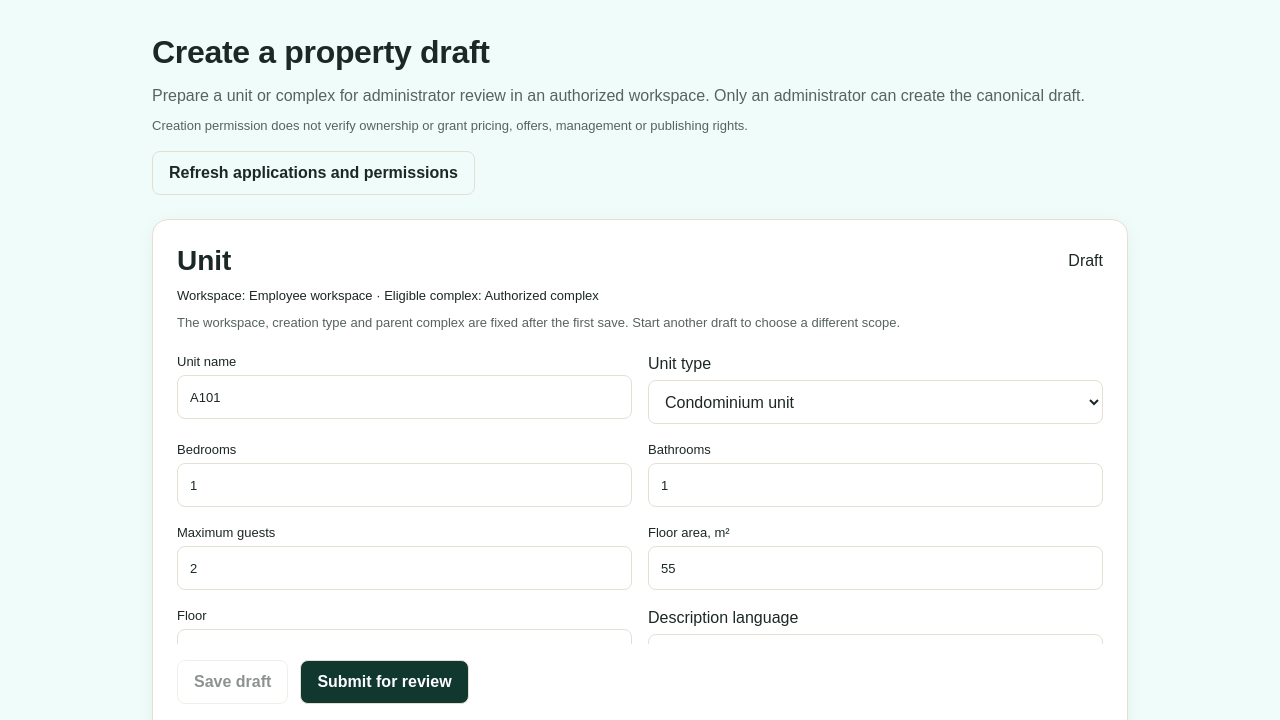
Test: employee creation editor › keeps edits after validation failure and uses expected revision on resumed saves
The width and height of the screenshot is (1280, 720).
Replace the text in the field labelled "Unit name" with "Local name" at (404,397), box [177, 375, 632, 419]
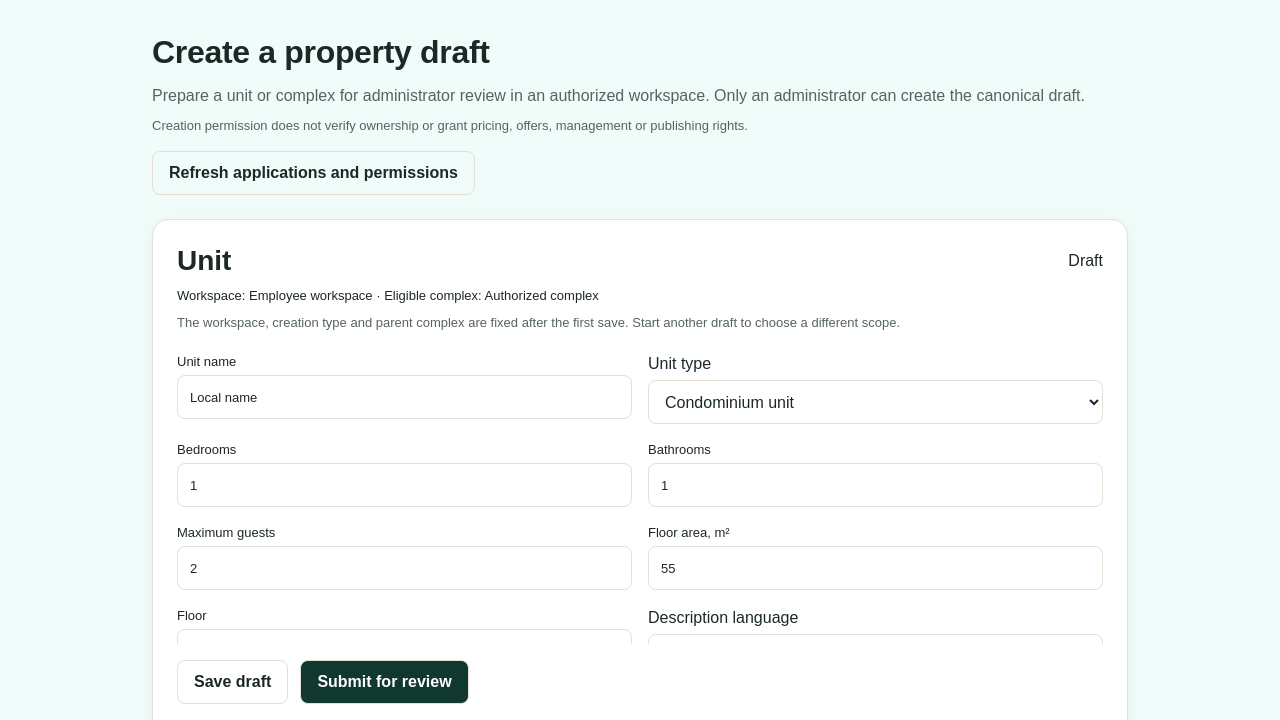
Click the button "Save draft" at (233,682), box [177, 660, 288, 704]
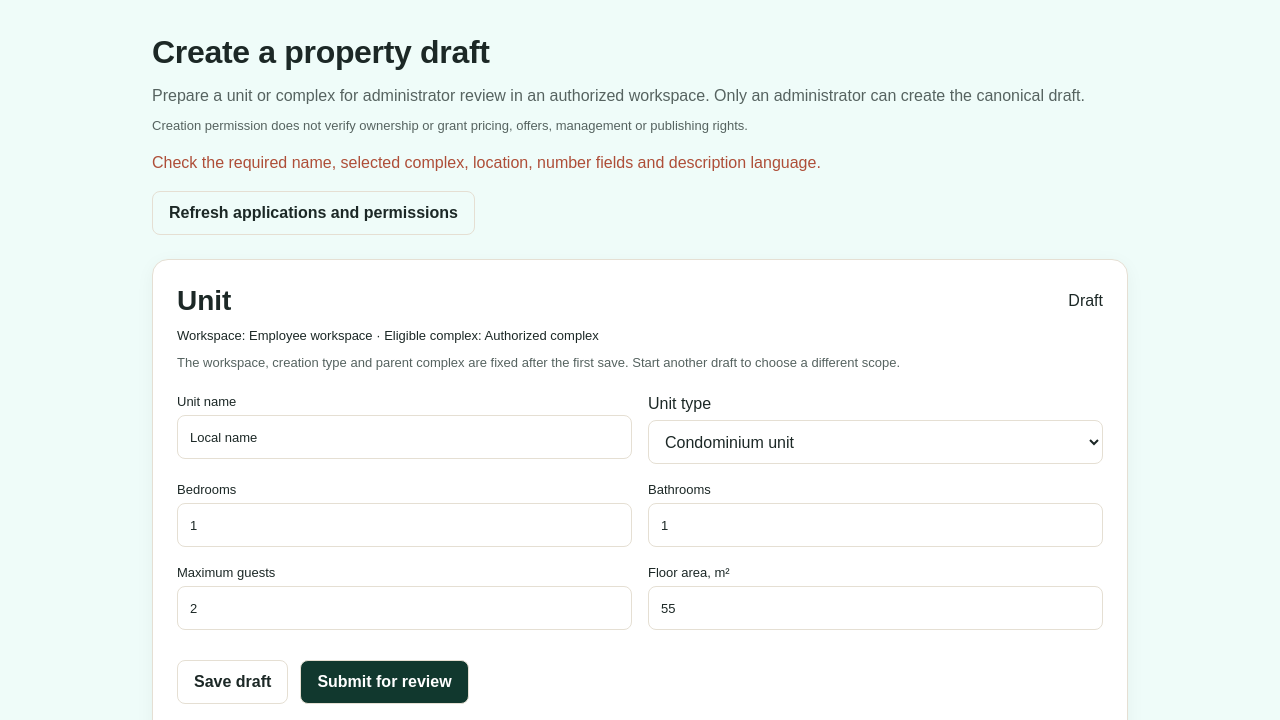
Expected: the button "Save draft" is enabled, [177, 660, 288, 704]
Expected: the text "Check the required name, selected complex, location, number fields and description language." is shown, [152, 154, 821, 171]
